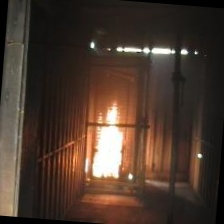fire: (88, 91, 131, 177)
